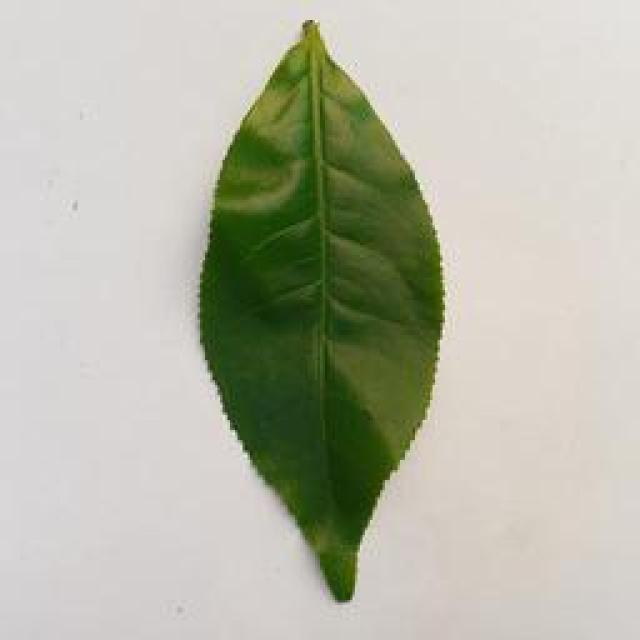Healthy: (160, 18, 467, 602)
